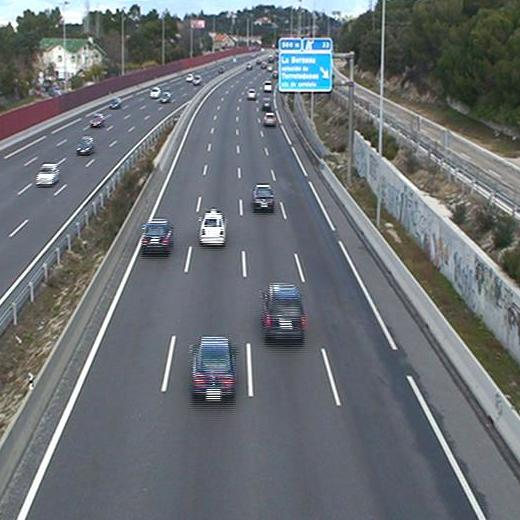car: (193, 336, 236, 401), (265, 283, 305, 341), (141, 219, 173, 255), (200, 212, 226, 247), (254, 184, 274, 210), (263, 111, 277, 126), (247, 87, 256, 100)
